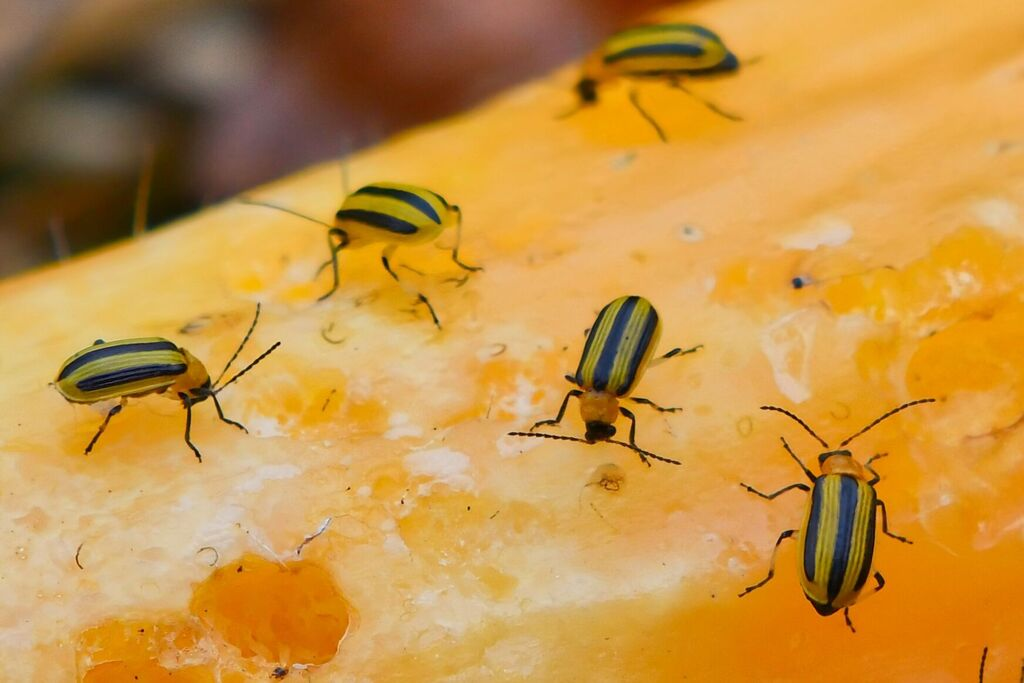potato_beetle: (693, 354, 984, 678), (0, 271, 321, 501), (473, 252, 739, 529), (209, 138, 516, 340)
